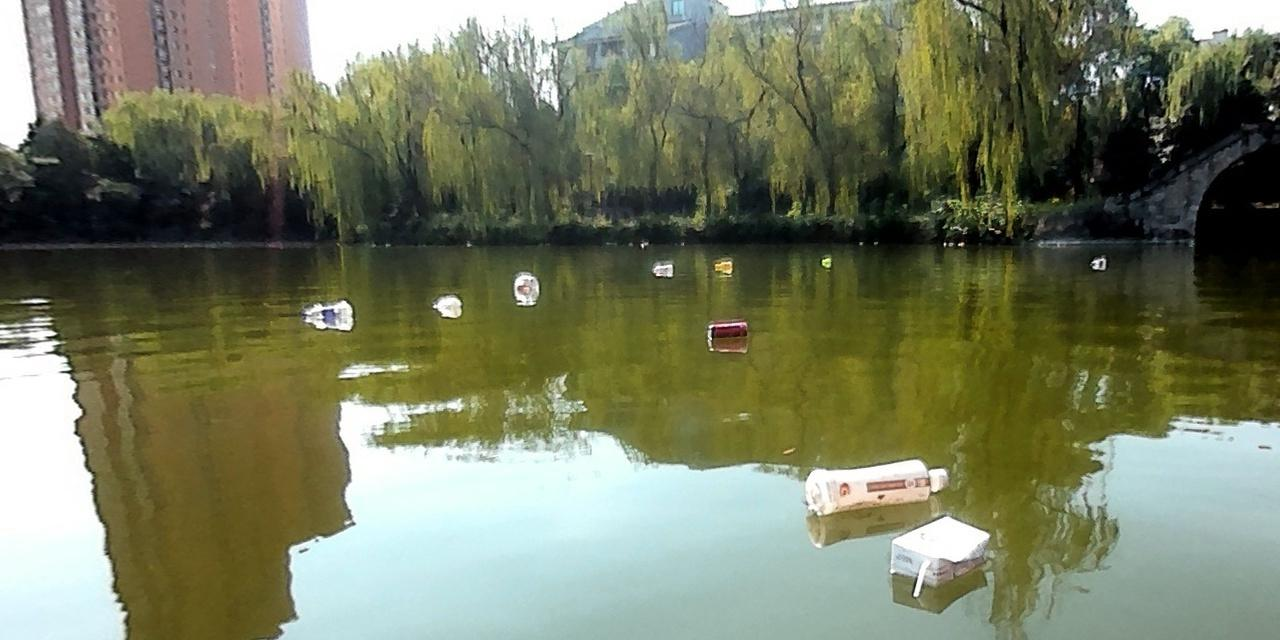Plastic: (804, 457, 951, 517), (300, 298, 356, 321), (705, 320, 750, 340), (509, 273, 540, 297), (430, 294, 463, 313), (1090, 256, 1107, 271), (651, 263, 674, 274), (713, 261, 734, 272), (821, 255, 834, 268)
Trash: (890, 510, 995, 589)
